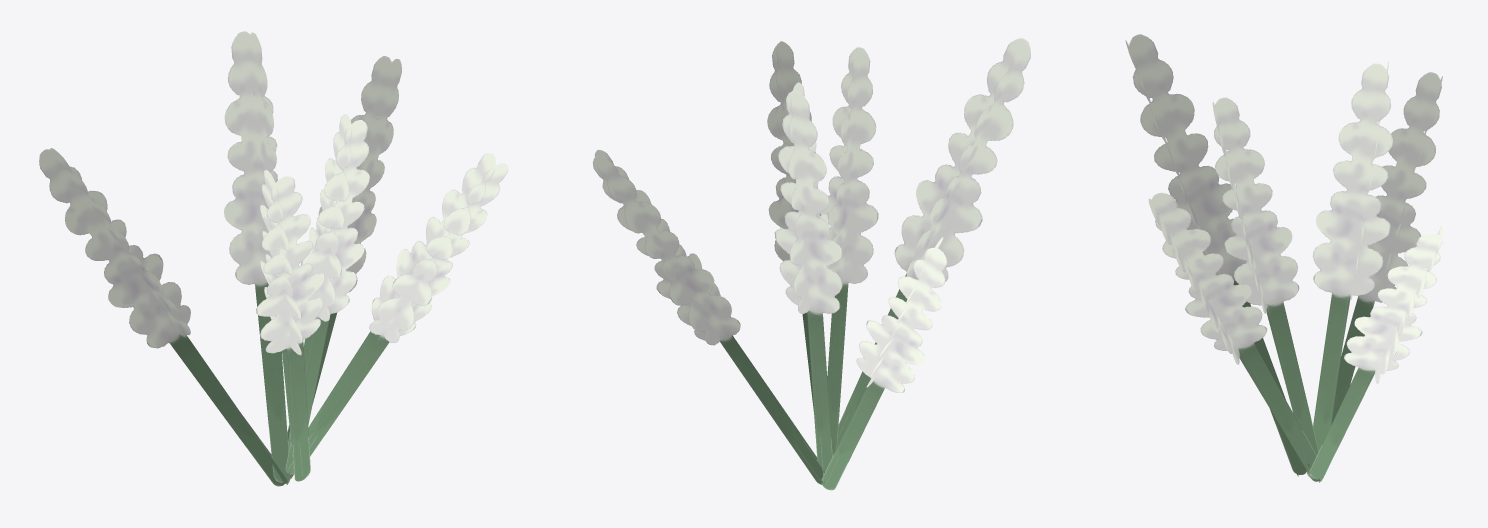
Rendered from lavender_w_bush.fbx.
The picture shows the model from 3 angles, left to right: view 1: azimuth 30°, elevation 25°; view 2: azimuth 150°, elevation 25°; view 3: azimuth 270°, elevation 25°; orthographic projection. The views are drawn at different scales.
Visible parts, largest first — view 1: polySurface462; view 2: polySurface462; view 3: polySurface462.
Boxes of the visible parts, x1=… form: polySurface462: x1=39, y1=31, x2=508, y2=486; polySurface462: x1=592, y1=38, x2=1030, y2=490; polySurface462: x1=1125, y1=34, x2=1444, y2=482.
Size of the model in its own units: 0.6097 by 0.6613 by 0.5057.
